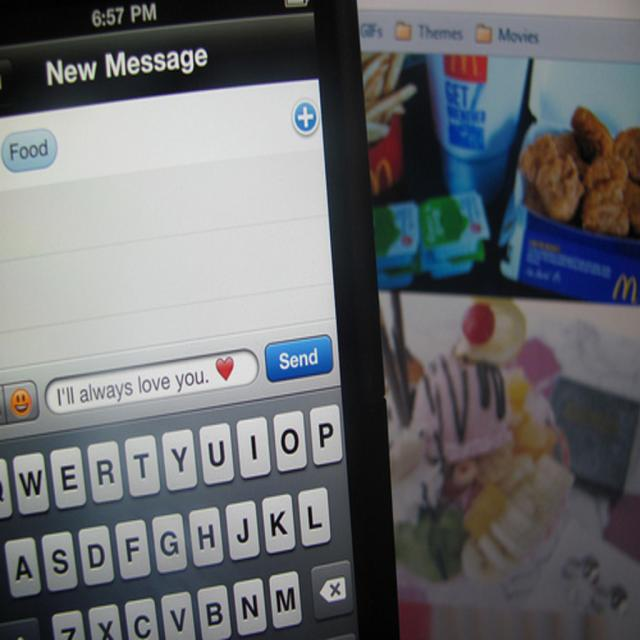Mobile-phone: (0, 5, 424, 640)
